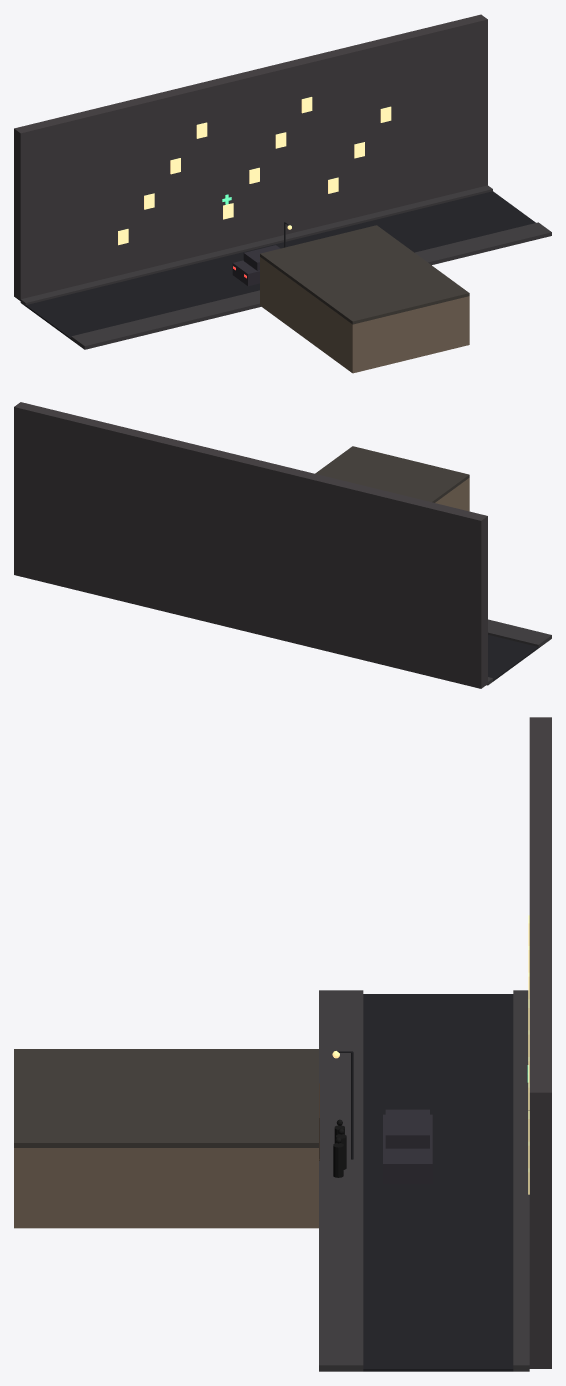
Rendered from cafeteria.glb.
3 views of the same model, one above another, from view 1: azimuth 30°, elevation 25°; view 2: azimuth 150°, elevation 25°; view 3: azimuth 270°, elevation 25° (orthographic). The views are drawn at different scales.
Visible parts, largest first — view 1: fachada, asfalto, techo, muros, anden, ventanas_calle, carro; view 2: fachada, techo, asfalto, anden, muros; view 3: asfalto, techo, muros, anden, fachada, carro.
Part boxes in pixels (x1,y1,x2,y2): fachada: (14,14,487,300); asfalto: (25,191,535,339); techo: (260,225,469,324); muros: (260,257,469,373); anden: (20,185,551,349); ventanas_calle: (118,97,391,245); carro: (232,245,280,285); fachada: (14,402,487,688); techo: (315,446,469,502); asfalto: (488,635,538,681); anden: (486,619,551,685); muros: (435,478,469,511); asfalto: (363,994,513,1371); techo: (14,1049,318,1147); muros: (14,1148,318,1228); anden: (319,990,529,1371); fachada: (529,717,551,1368); carro: (383,1109,432,1183).
Bounding box in the file's own units: 32 × 11.1 × 19.4.
